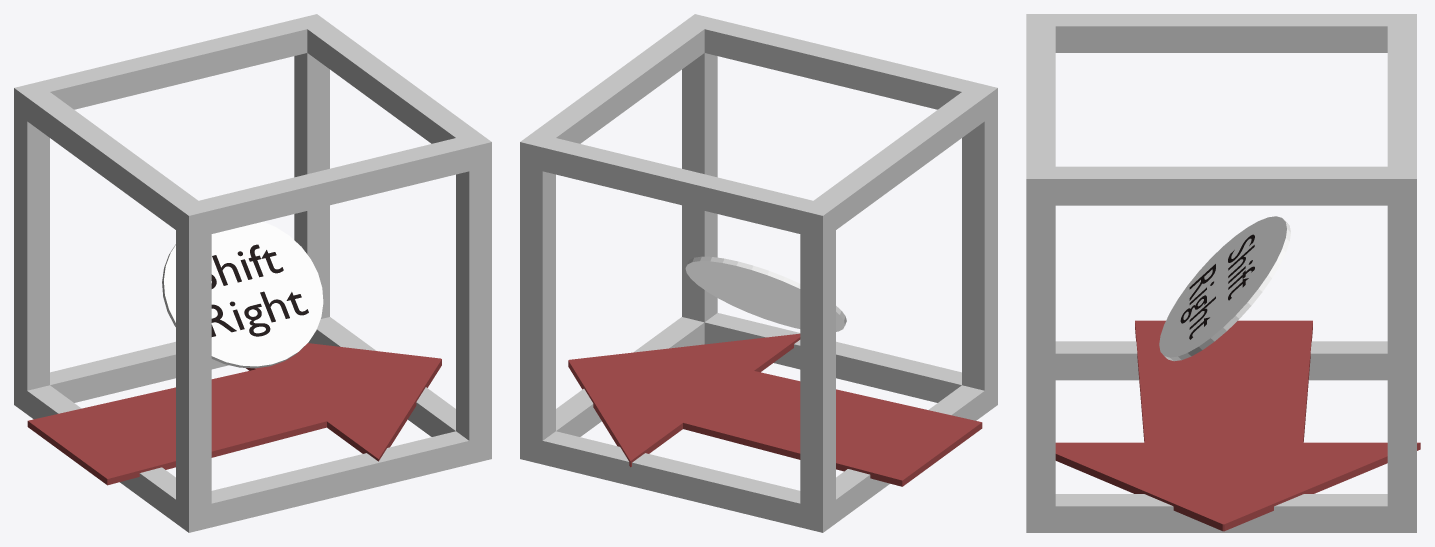
File: MoveRight.glb
3 renders of one model, left to right at view 1: azimuth 30°, elevation 25°; view 2: azimuth 150°, elevation 25°; view 3: azimuth 270°, elevation 25°, orthographic. The views are drawn at different scales.
Parts seen in each view (by area): view 1: Cube, Cube.005, Cylinder.001, Text; view 2: Cube, Cube.005, Cylinder.001; view 3: Cube, Cube.005, Cylinder.001, Text.
Part boxes in pixels (<box>): Cube: <box>14,14,491,532</box>; Cube.005: <box>27,343,441,485</box>; Cylinder.001: <box>162,221,323,368</box>; Text: <box>211,244,308,336</box>; Cube: <box>520,14,997,532</box>; Cube.005: <box>568,333,982,486</box>; Cylinder.001: <box>685,256,846,331</box>; Cube: <box>1026,14,1416,532</box>; Cube.005: <box>1055,320,1420,531</box>; Cylinder.001: <box>1159,216,1290,361</box>; Text: <box>1180,234,1254,339</box>.
Size of the model in its own units: 2.47 by 2 by 2.02.
